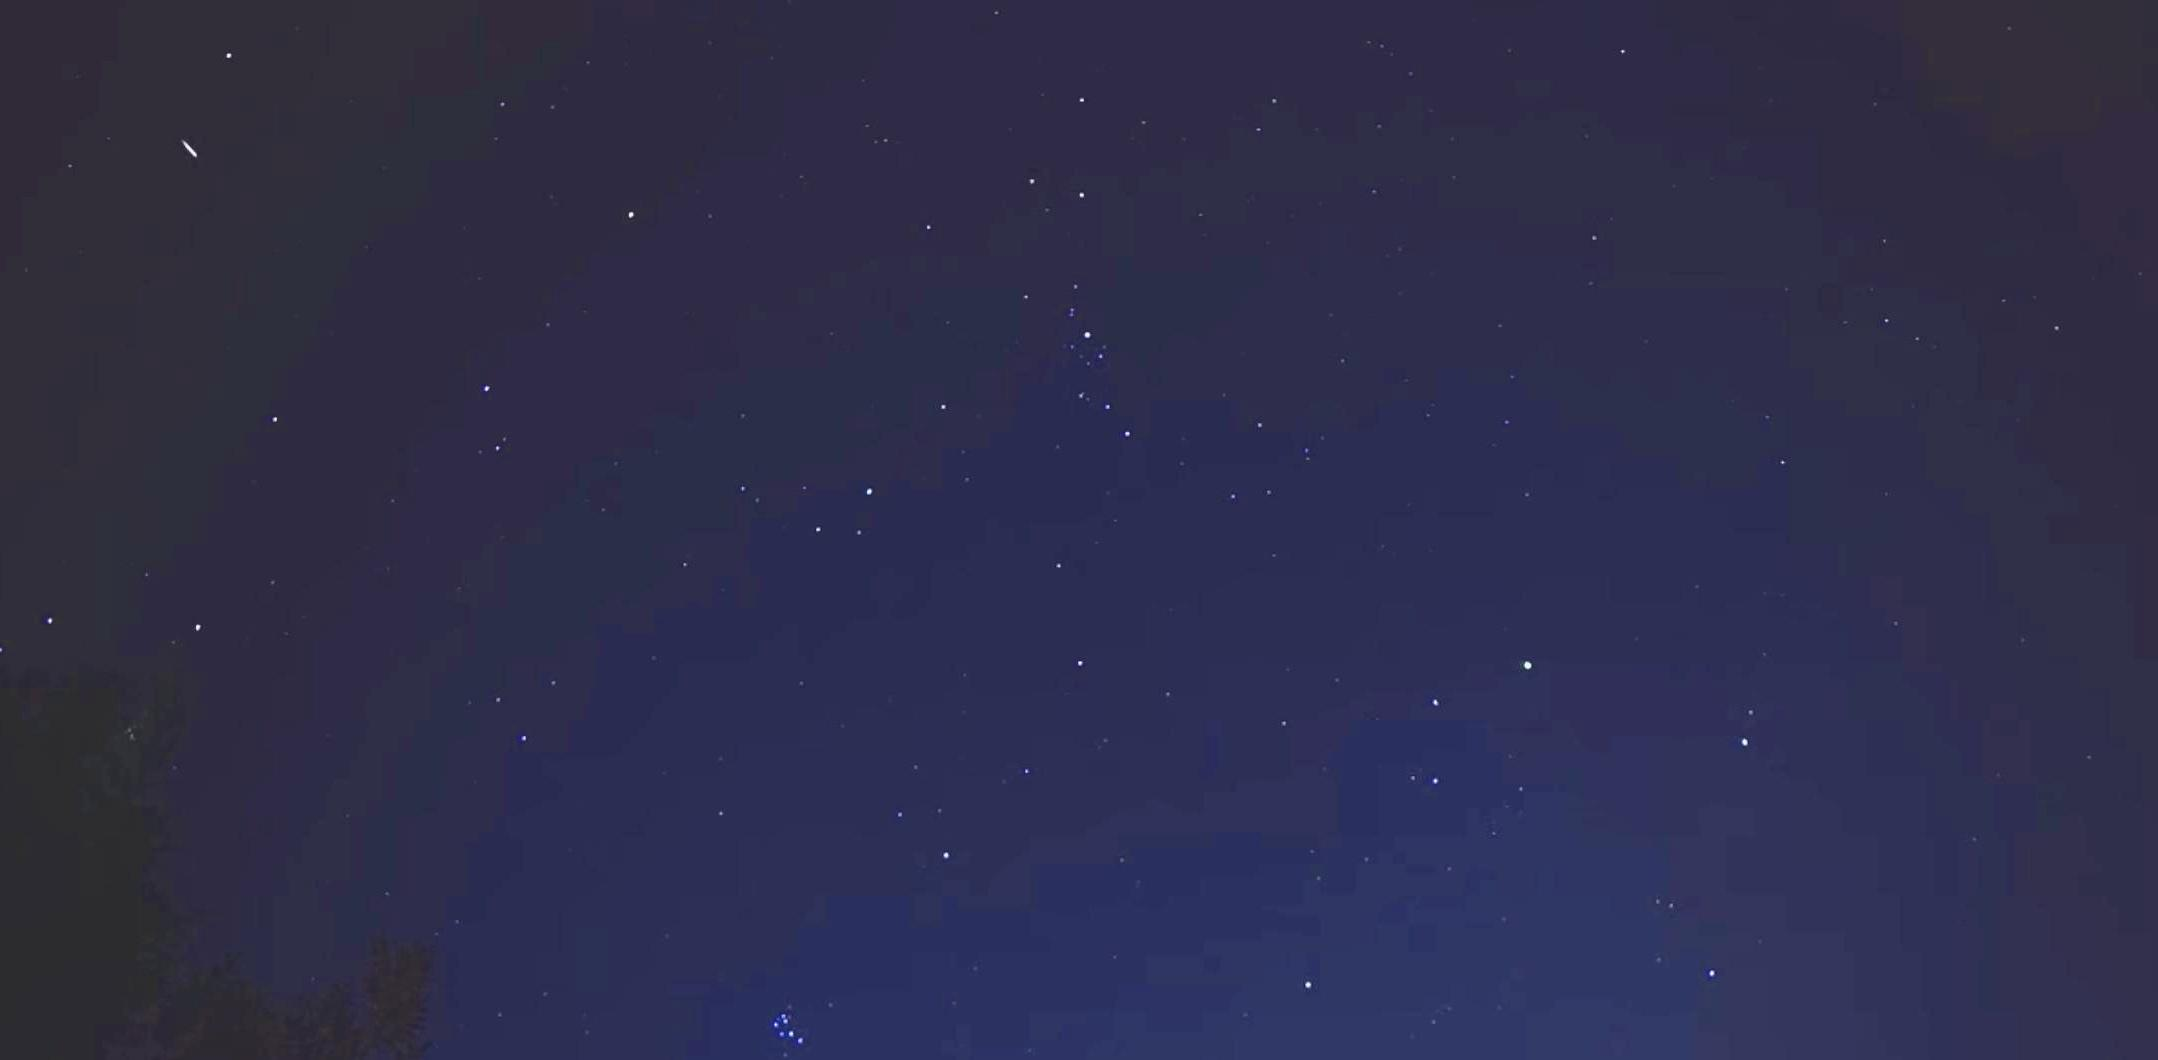meteorite: (151, 124, 224, 175)
